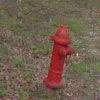Hydrant: (40, 15, 83, 97)
